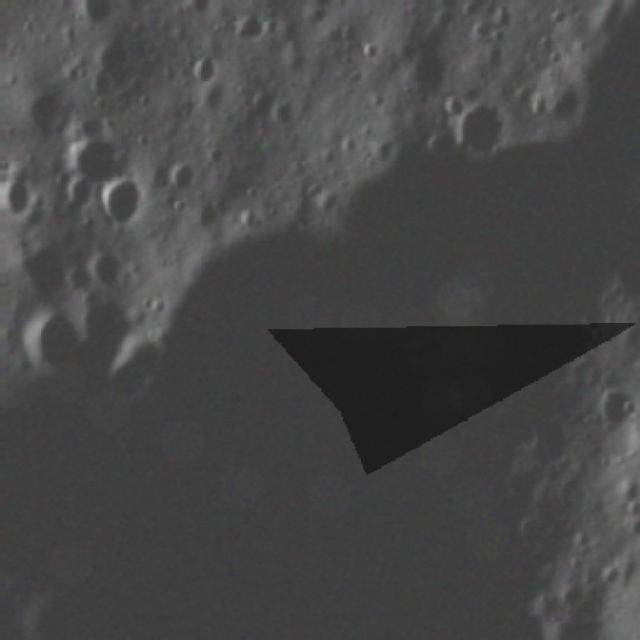crater: (55, 123, 122, 195), (14, 308, 81, 378), (448, 91, 508, 158), (391, 42, 454, 103), (11, 82, 71, 146), (92, 172, 150, 228), (526, 72, 576, 130), (84, 248, 138, 298), (594, 382, 640, 436), (158, 153, 198, 198), (0, 174, 37, 220), (183, 49, 223, 88), (298, 0, 383, 18), (230, 9, 272, 43), (68, 0, 110, 29), (481, 0, 524, 6)
